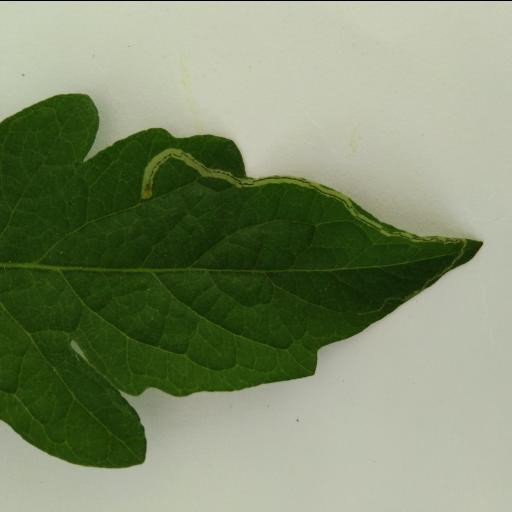Leaf Miner: (0, 94, 489, 470)
